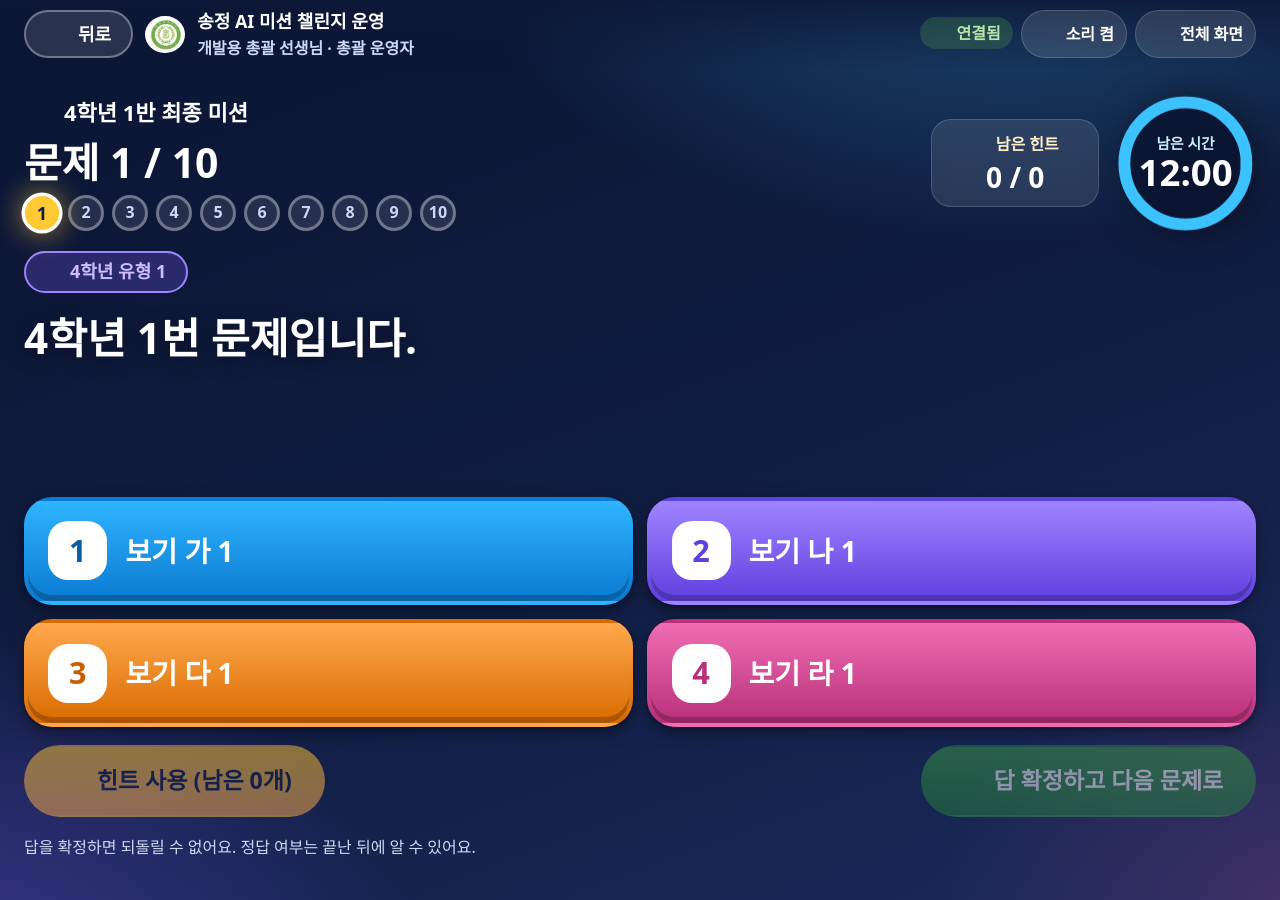
Scenario: 전자칠판의 올린 문제 › 유형 배지와 그림을 보여 주고 그림 문제의 보기 순서는 원고 그대로다
The width and height of the screenshot is (1280, 900).
Expected: the text "4학년 유형 1" is shown, 70,262 -> 166,283
Click the button "2 보기 나 1".
click(701, 551)  # box 647,497 -> 1256,605
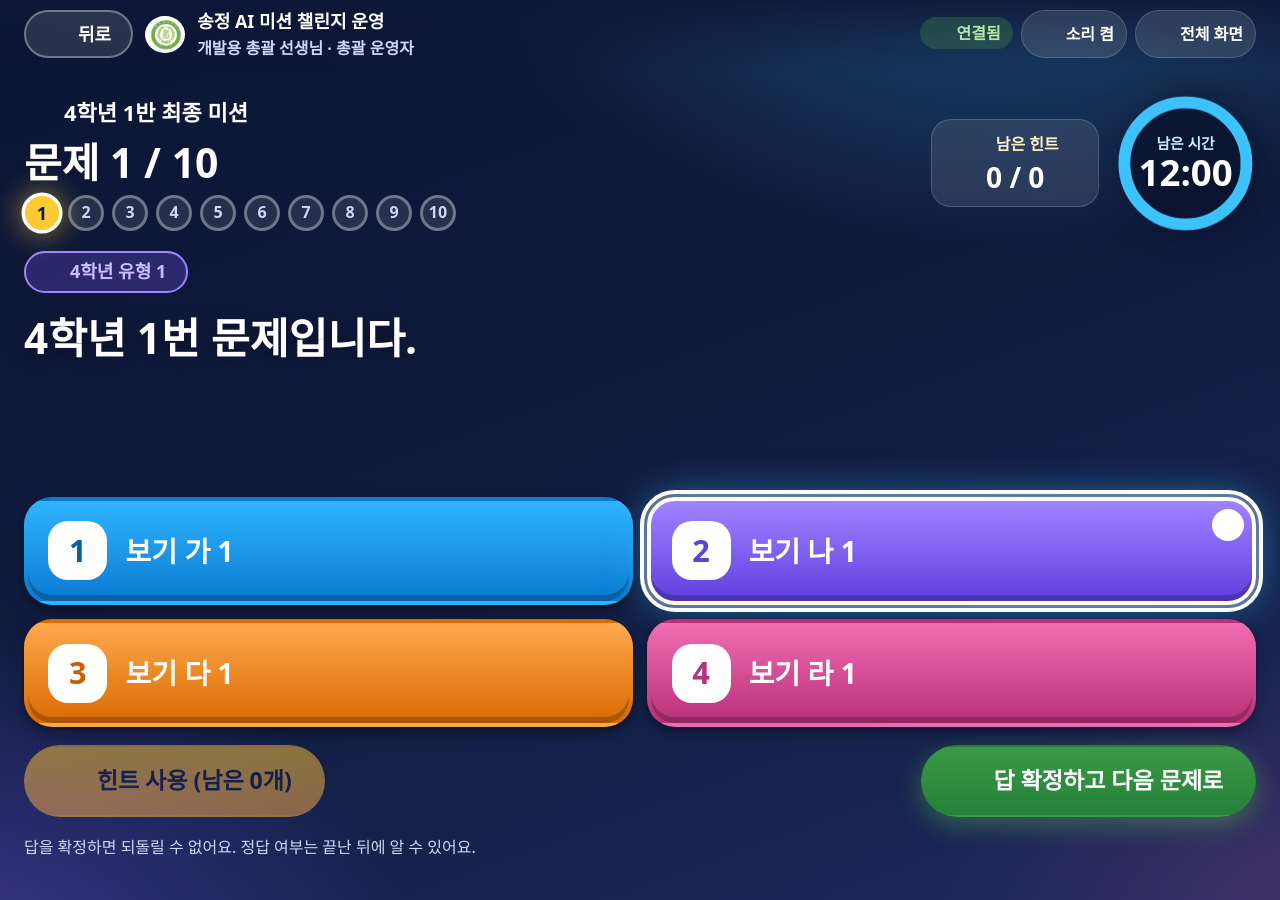
Click the button "답 확정하고 다음 문제로".
click(1088, 781)  # box 921,745 -> 1256,817
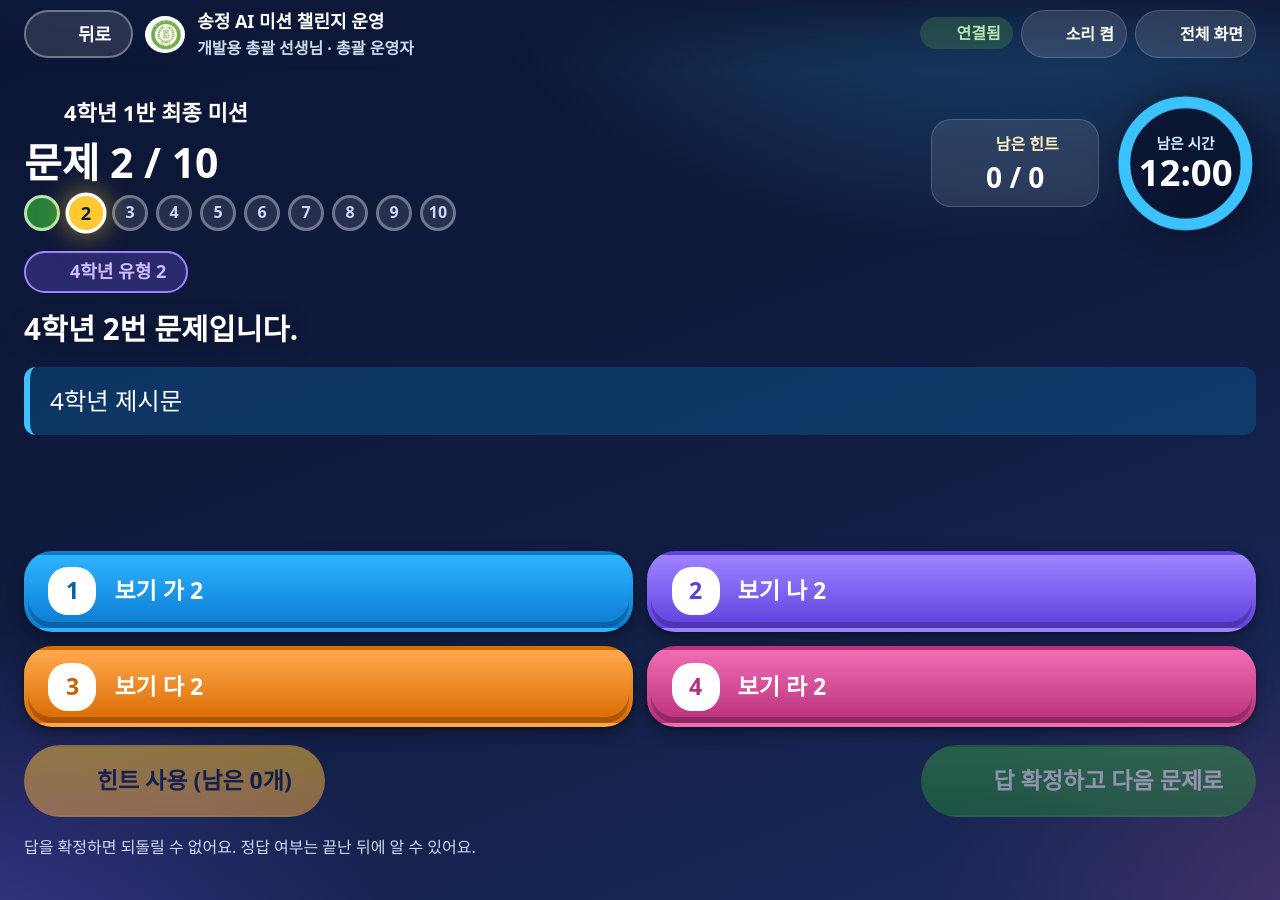
Click the button "2 보기 나 2".
click(696, 591)  # box 647,551 -> 1256,632
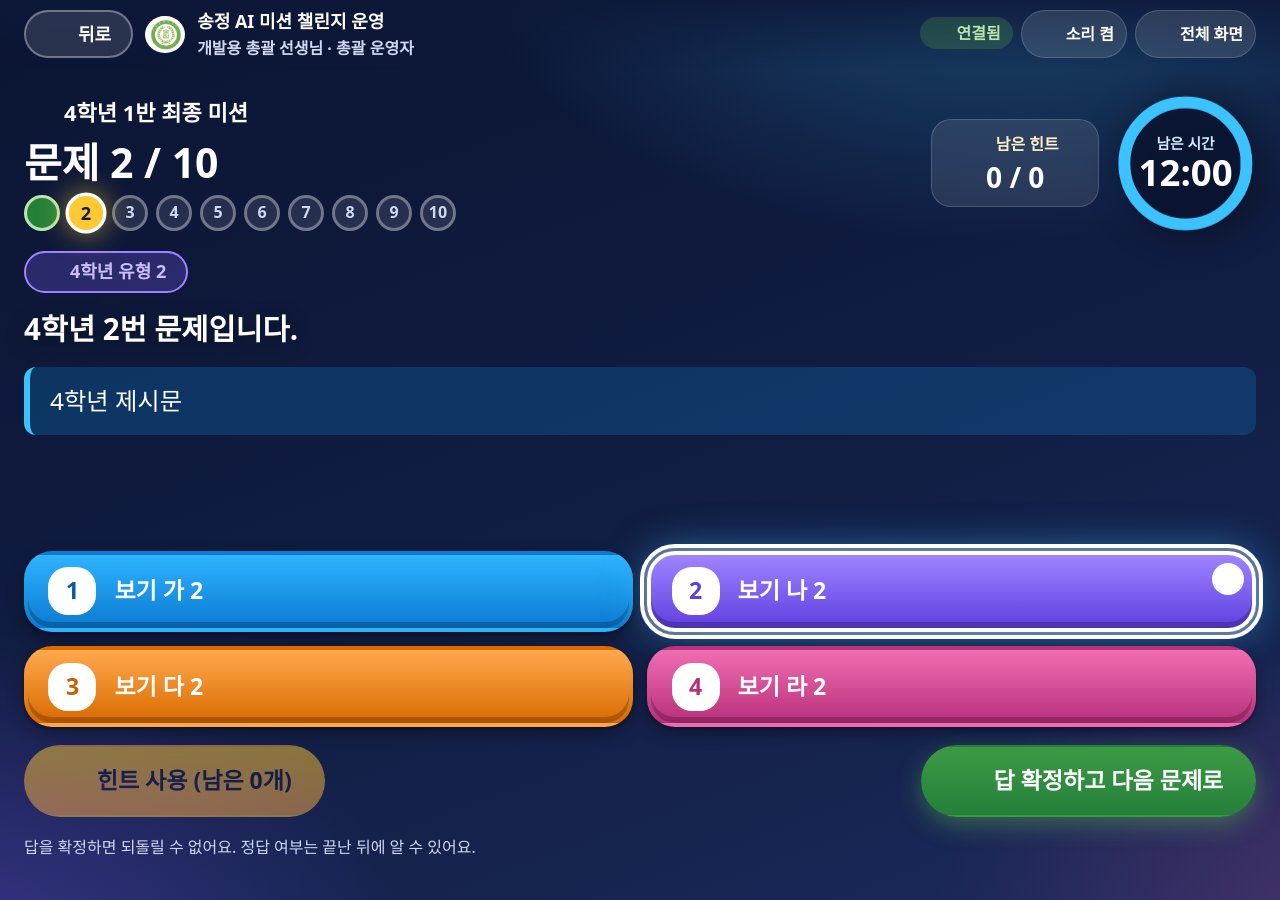
Click the button "답 확정하고 다음 문제로".
click(1088, 781)  # box 921,745 -> 1256,817
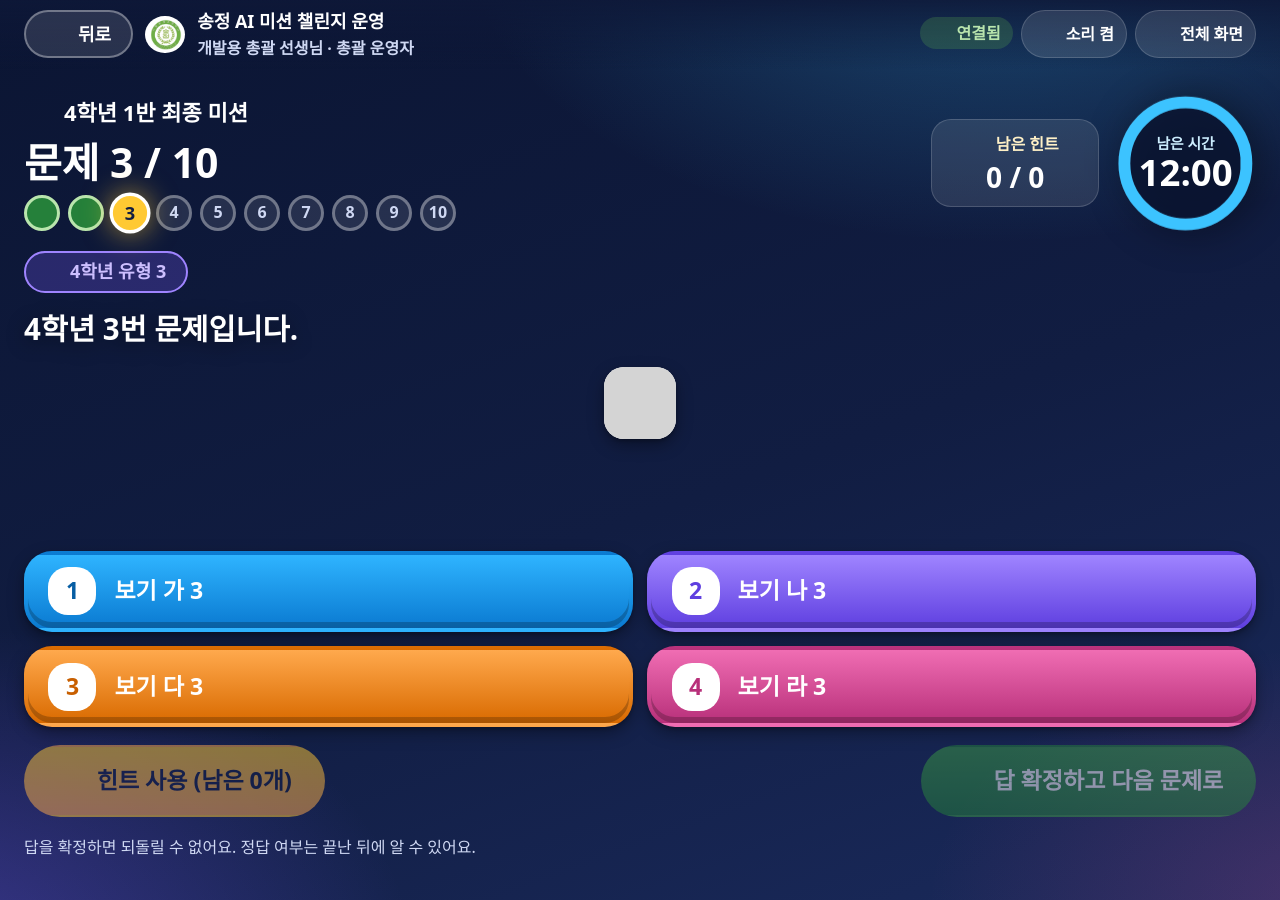
Expected: the text "4학년 유형 3" is shown, 70,262 -> 166,283
